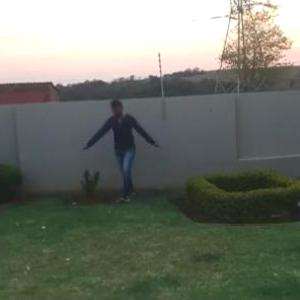land: (83, 95, 162, 206)
